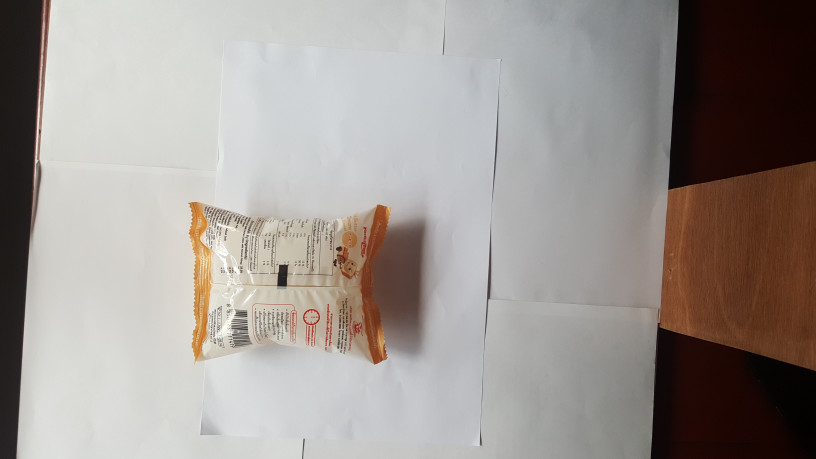farmhouse-sweetsandwich-almond: (179, 193, 391, 375)
